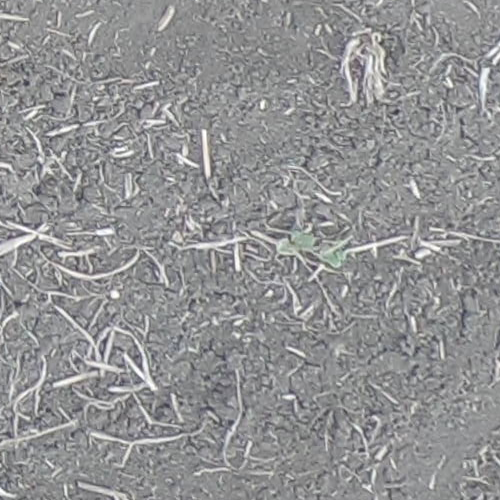plant: (273, 232, 315, 257), (320, 241, 344, 266)
